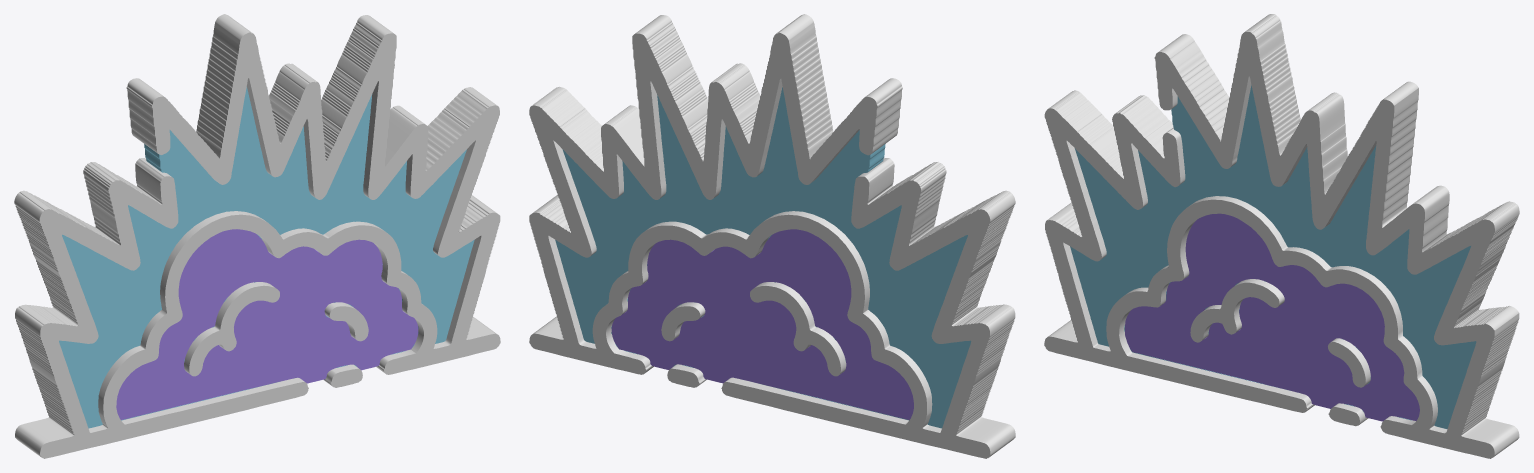
The model's file is ActionDraco.gltf.
3 renders of one model, left to right at view 1: azimuth 30°, elevation 25°; view 2: azimuth 150°, elevation 25°; view 3: azimuth 330°, elevation 25°, orthographic. The views are drawn at different scales.
Parts seen in each view (by area): view 1: path2, path0, path1; view 2: path2, path0, path1; view 3: path2, path0, path1.
Boxes of the visible parts, x1,y1,x2,y2 form: path2: (14,14,500,458); path0: (59,86,474,428); path1: (116,229,418,419); path2: (529,14,1015,458); path0: (555,87,971,428); path1: (611,229,913,419); path2: (1044,14,1519,458); path0: (1070,85,1476,429); path1: (1125,213,1419,421).
Bounding box in the file's own units: 0.1053 × 0.0823 × 0.0102.
